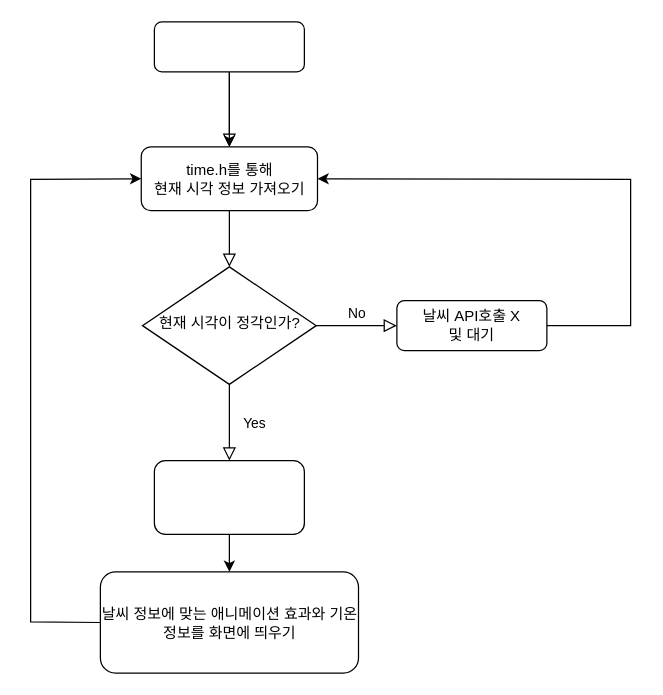
Image size: 663x695. Some labels were removed from this diagram. Here are the shapes that lost their labels. From the top down, the centre of each, then its label:
(228,46): 프로그램 시작
(228,496): 날씨 API호출을 통한 정보 업데이트
